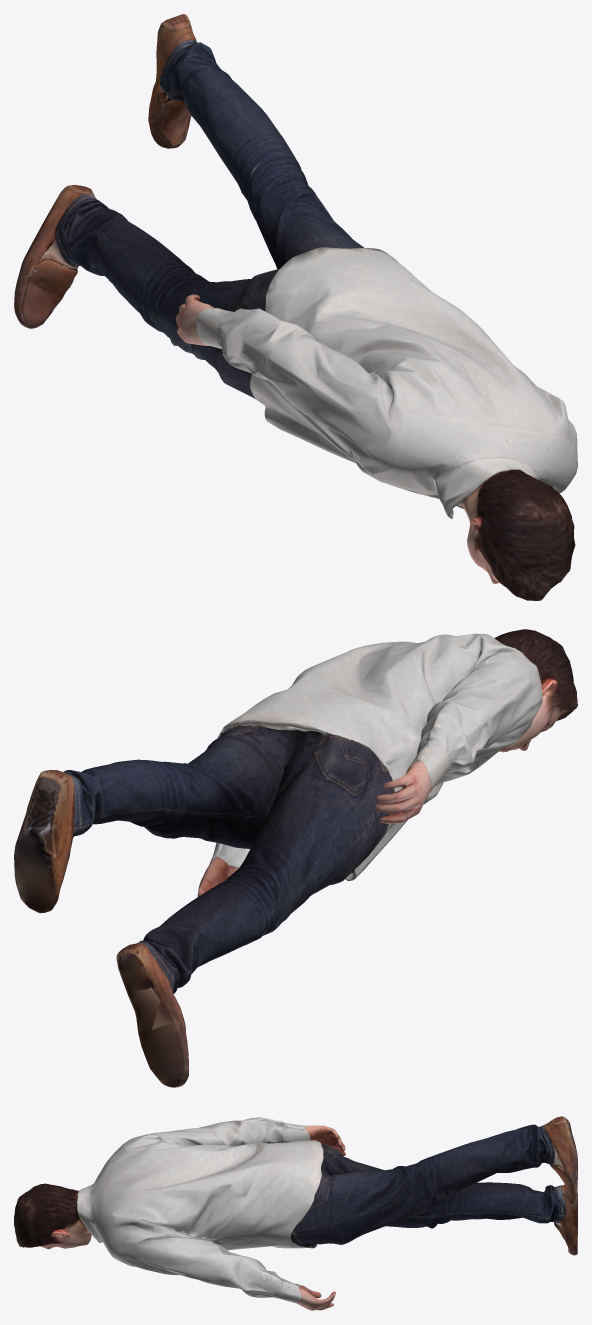
The model's file is nanren2.glb.
3 views of the same model, one above another, from view 1: azimuth 30°, elevation 25°; view 2: azimuth 150°, elevation 25°; view 3: azimuth 270°, elevation 25° (orthographic). The views are drawn at different scales.
Visible parts, largest first — view 1: nanren9; view 2: nanren9; view 3: nanren9.
Part boxes in pixels (<box>): nanren9: <box>14,14,577,600</box>; nanren9: <box>14,629,577,1087</box>; nanren9: <box>14,1116,577,1310</box>.
Size of the model in its own units: 0.6397 by 0.6913 by 1.89.
1 material, 1 textured.
